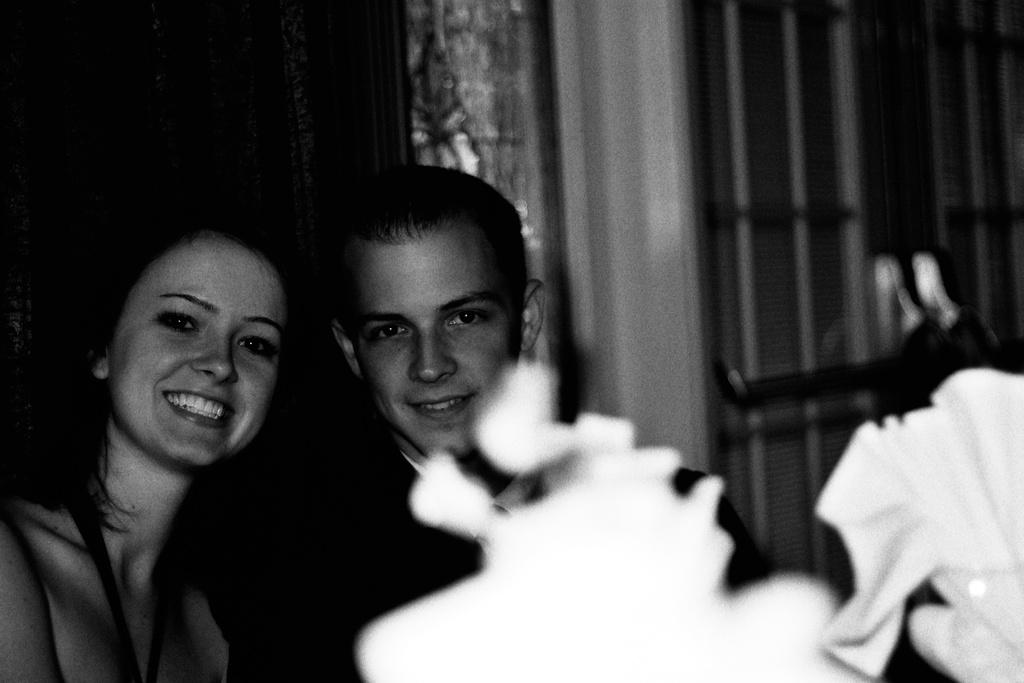Sem Máscara: (109, 233, 285, 465), (352, 233, 521, 457)
